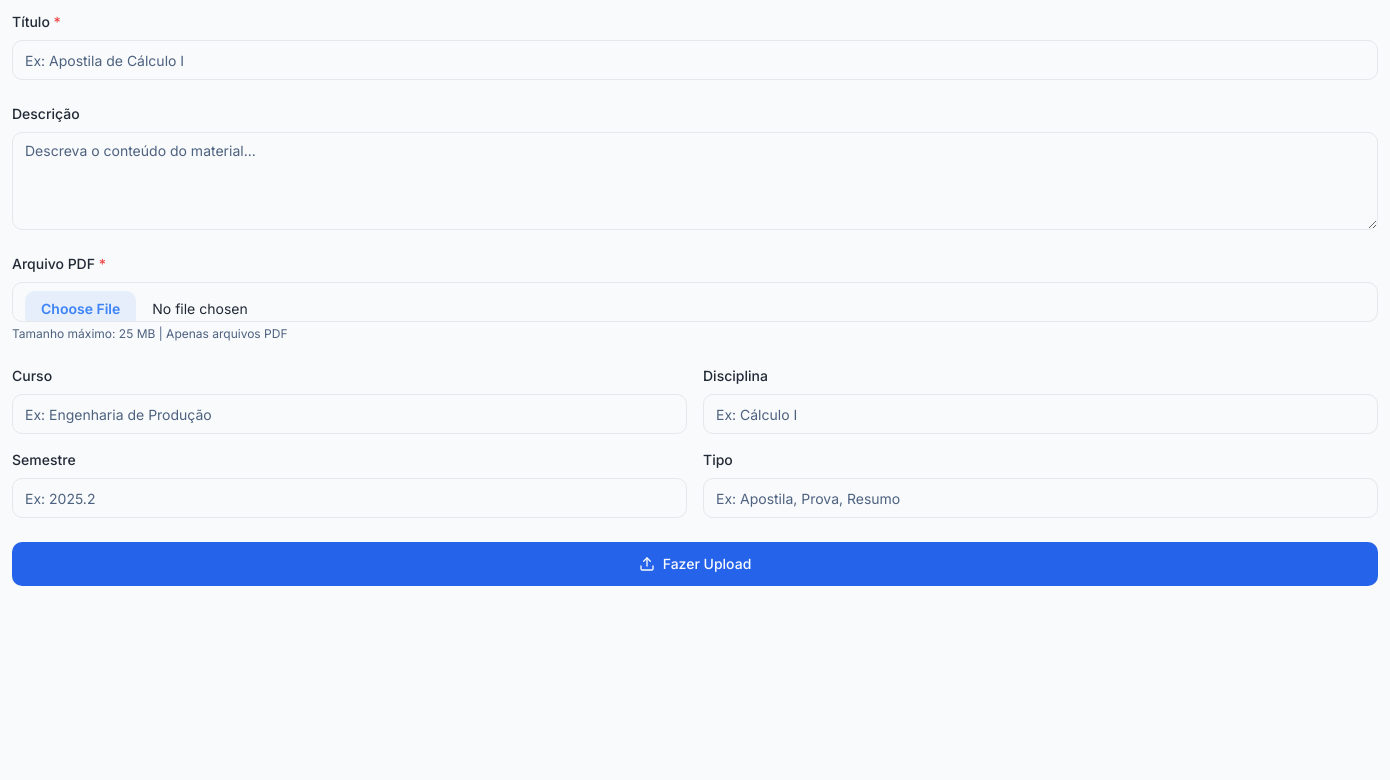
Test: UploadForm › deve exibir erro quando título está vazio
What coordinates should you click on to do the following:
click the button "Fazer Upload"
I would click on:
 (695, 564)
Its box is [12,542,1378,586].
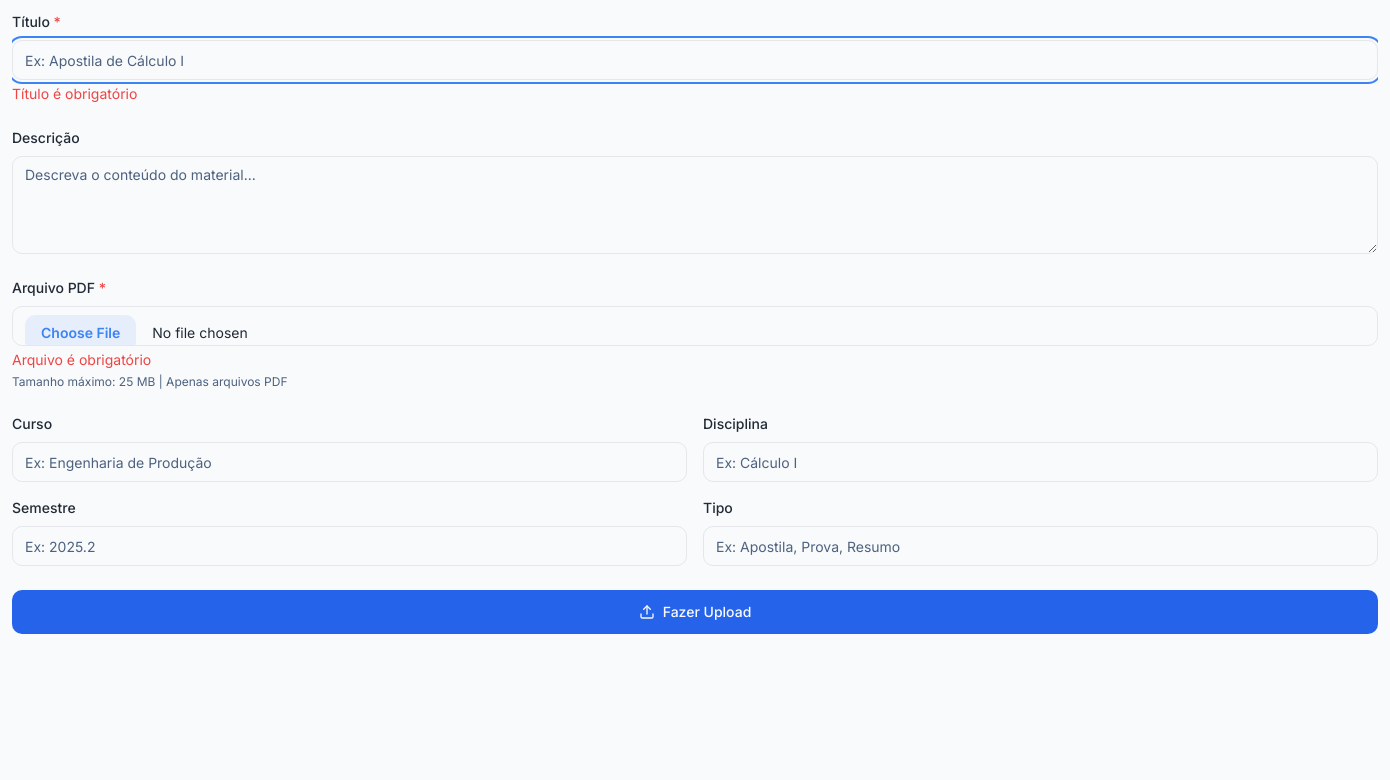
Result: the text "Título é obrigatório" is shown at [12,85,137,102]
